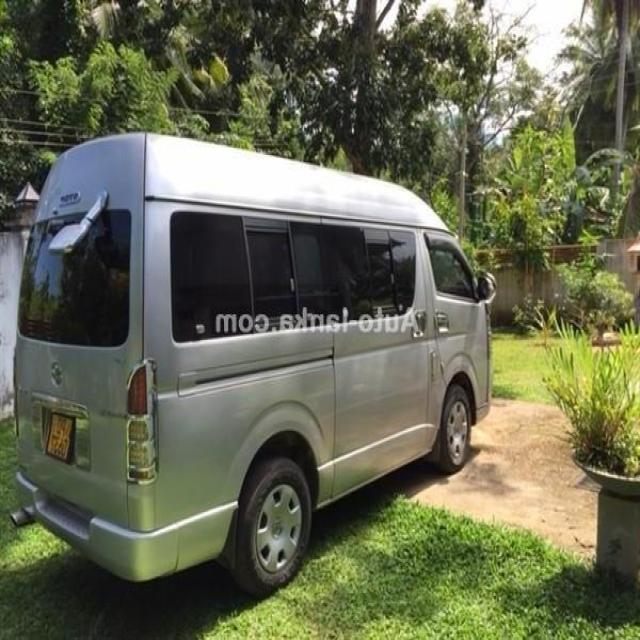Bus: (16, 160, 468, 541)
